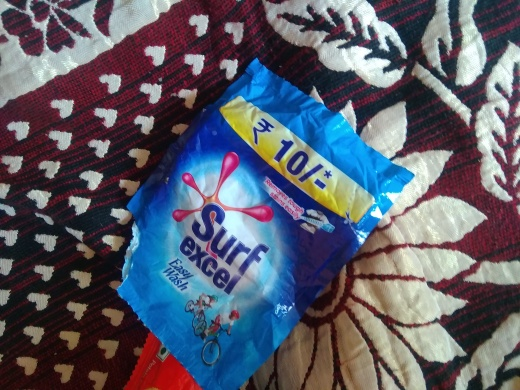surf: (107, 62, 419, 390)
